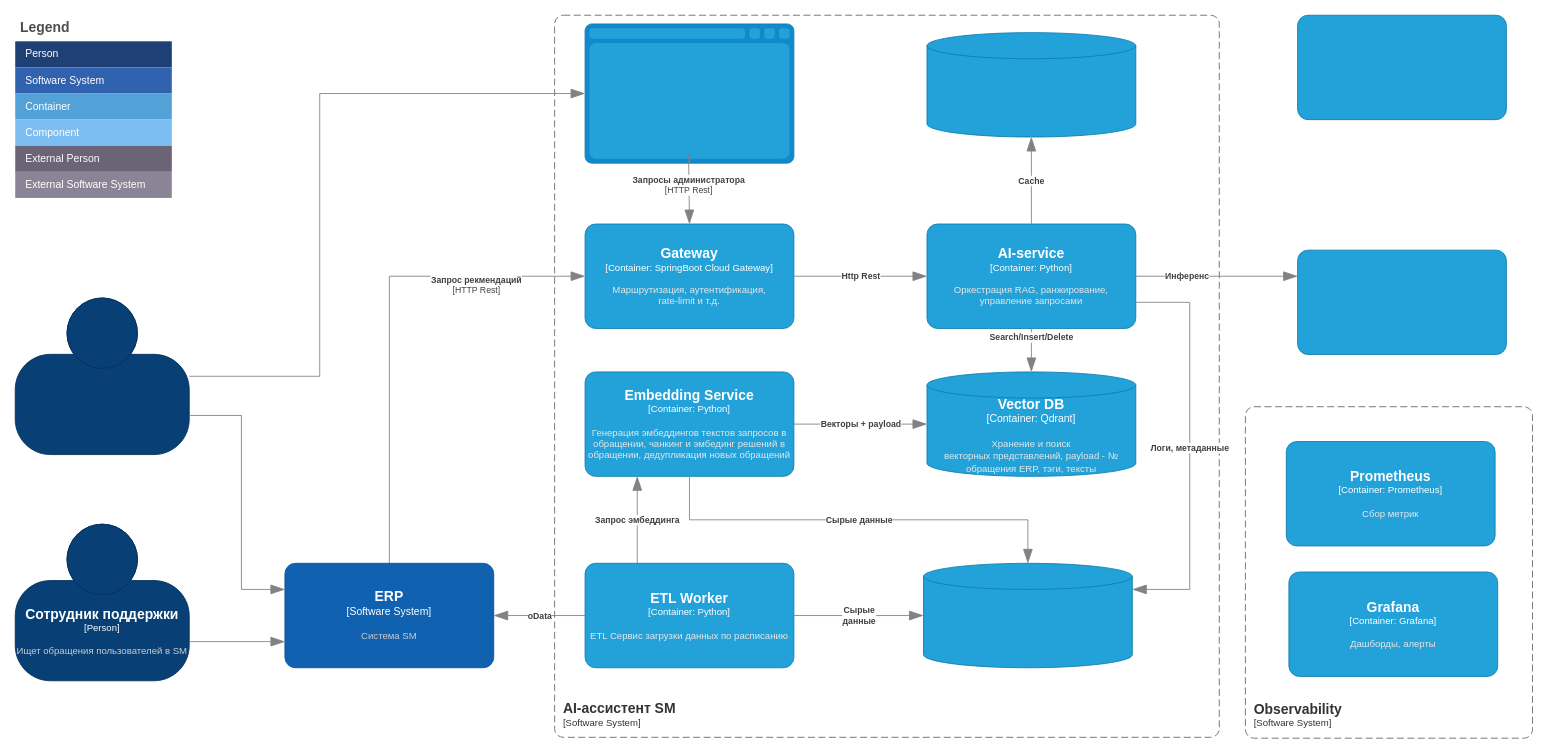
Image size: 1548x753. Some labels were removed from this diagram. Each missing label, with the centre of its shape:
"Cache [Container: Redis] Кэш результатов поиска" goes at (x=1031, y=84).
"Frontend/Admin [Container: Spring Boot + Thymeleaf] Панель администрирования" goes at (x=689, y=93).
"Model Serving [Container: Qwen, Qwen-embedding] Модели" goes at (x=1401, y=302).
"Secrets [Container: HashiCorp Vault] Секреты" goes at (x=1401, y=67).
"SQL DB [Container: PostgreSQL] Сырые тексты обращений, метаданные" goes at (x=1027, y=615).
"Администратор [Person] Управляет базой знаний обращений" goes at (x=101, y=376).
